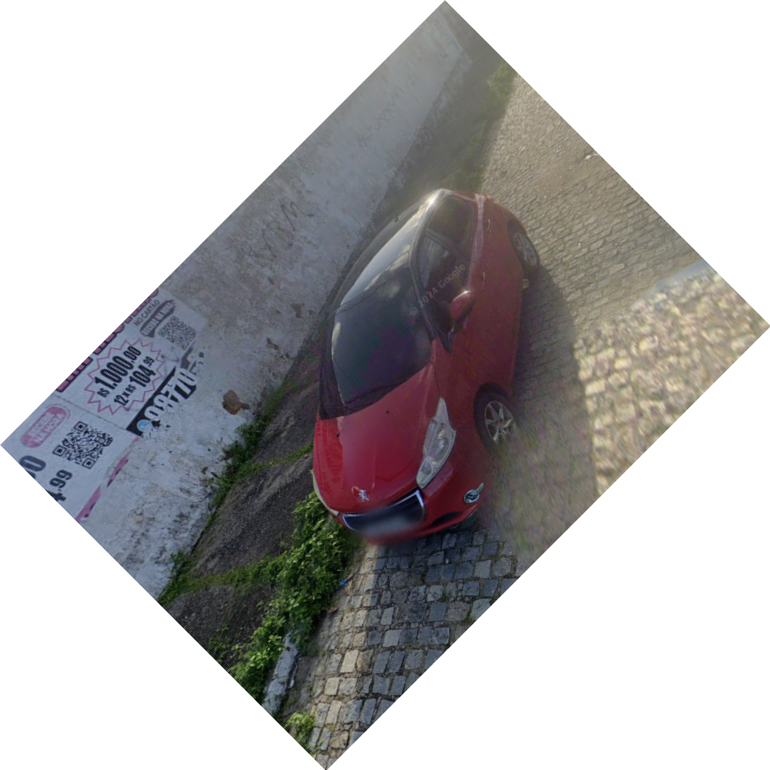car: (311, 186, 539, 543)
